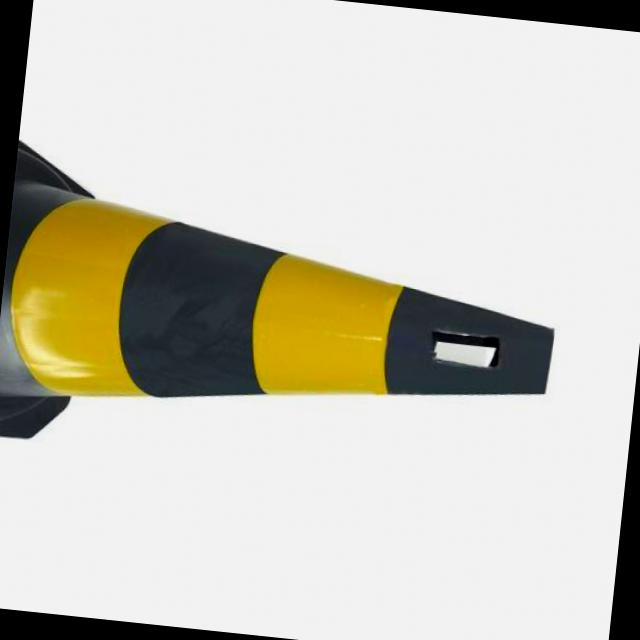cone: (0, 134, 579, 512)
